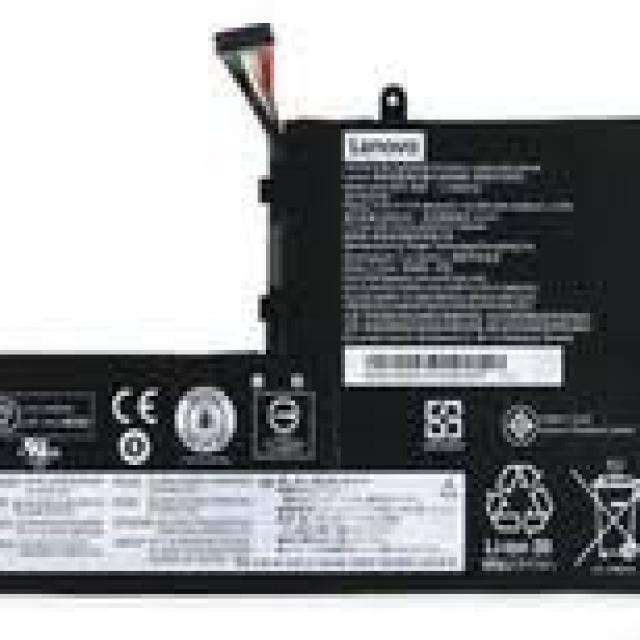organic: (4, 5, 635, 606)
